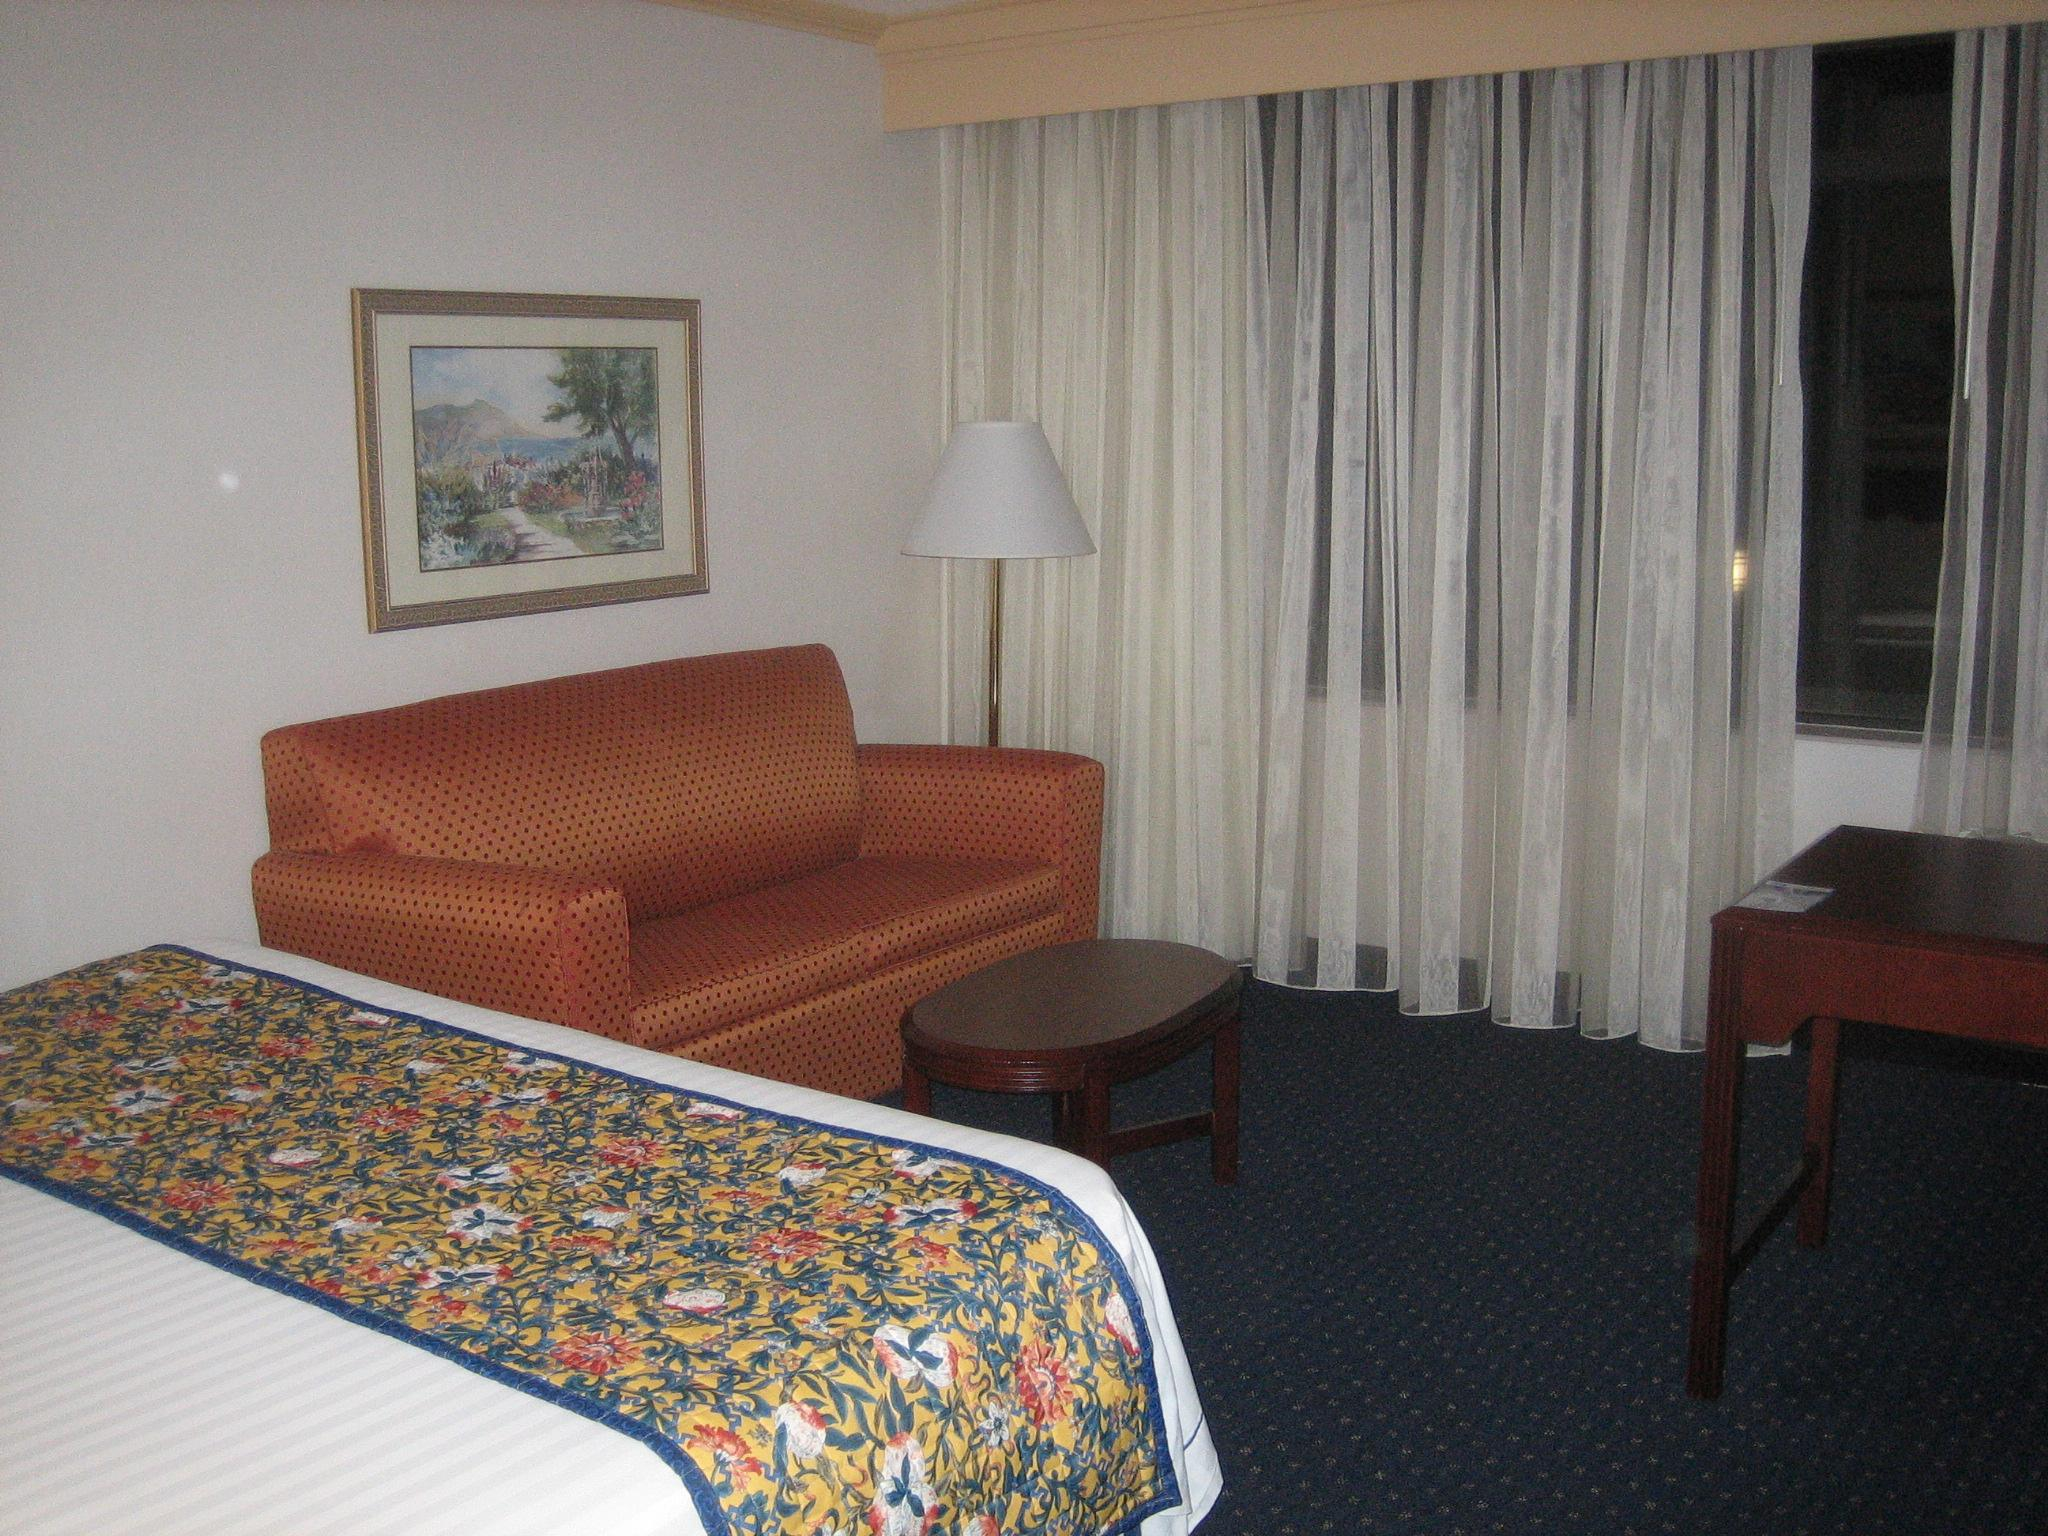Cama: (3, 918, 1247, 1525)
Ventana: (955, 127, 2030, 733)
